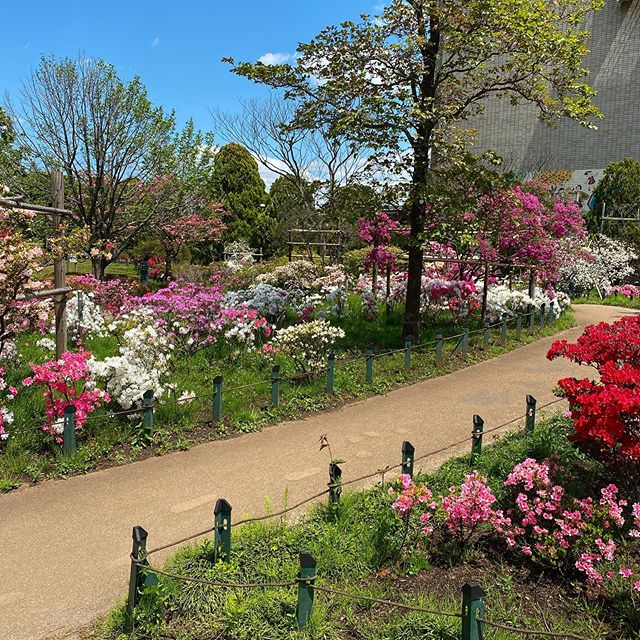sky: (1, 1, 307, 102)
tree: (274, 1, 578, 297)
vegetation: (1, 130, 574, 434)
